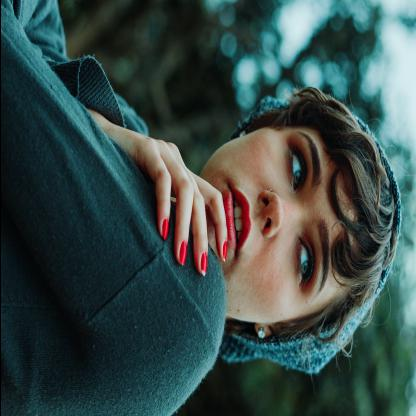Eye: (294, 233, 315, 296), (286, 141, 308, 194)
Mouth: (225, 179, 254, 257)
Nose: (258, 191, 298, 240)
